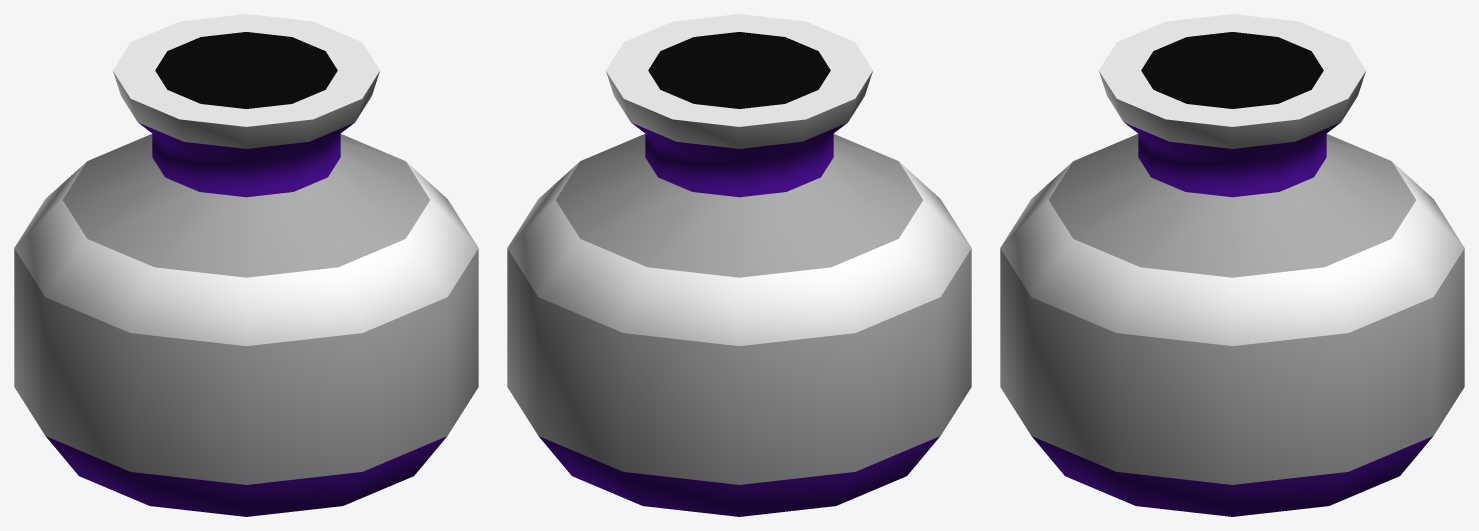
File: Pot.fbx
The picture shows the model from 3 angles, left to right: view 1: azimuth 30°, elevation 25°; view 2: azimuth 150°, elevation 25°; view 3: azimuth 270°, elevation 25°; orthographic projection.
Parts seen in each view (by area): view 1: Pot; view 2: Pot; view 3: Pot.
Boxes of the visible parts, <box> form: Pot: <box>14,14,478,516</box>; Pot: <box>507,14,971,516</box>; Pot: <box>1000,14,1464,516</box>.
Size of the model in its own units: 0.01 by 0.00866 by 0.01.
